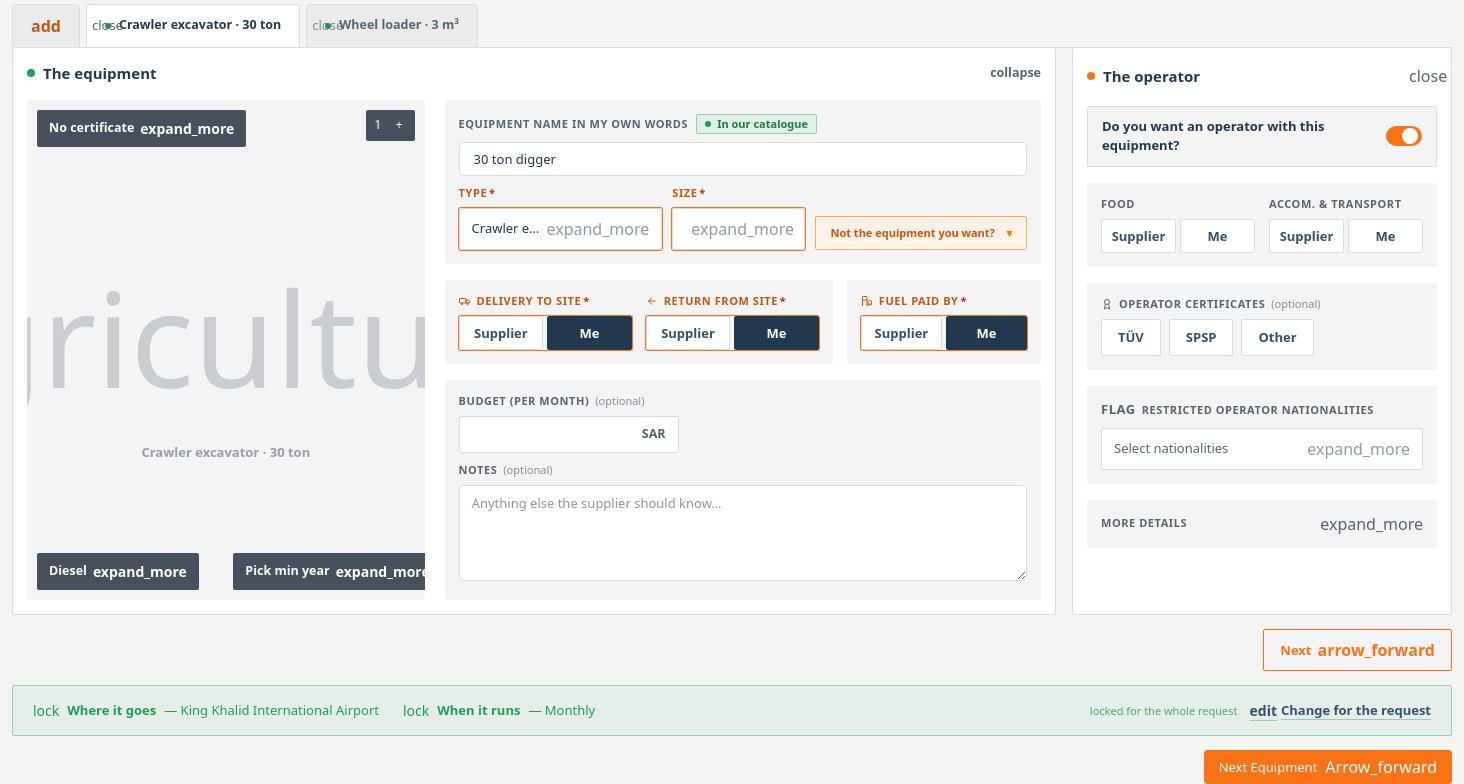
Test case: moving to the next equipment (MREQ-AC-39) › moves straight to equipment 2, with its panel open
(page scrolled)
Click the button "Next equipment arrow_forward" at (1328, 767), box x1=1204 y1=750 x2=1452 y2=783
(page scrolled)
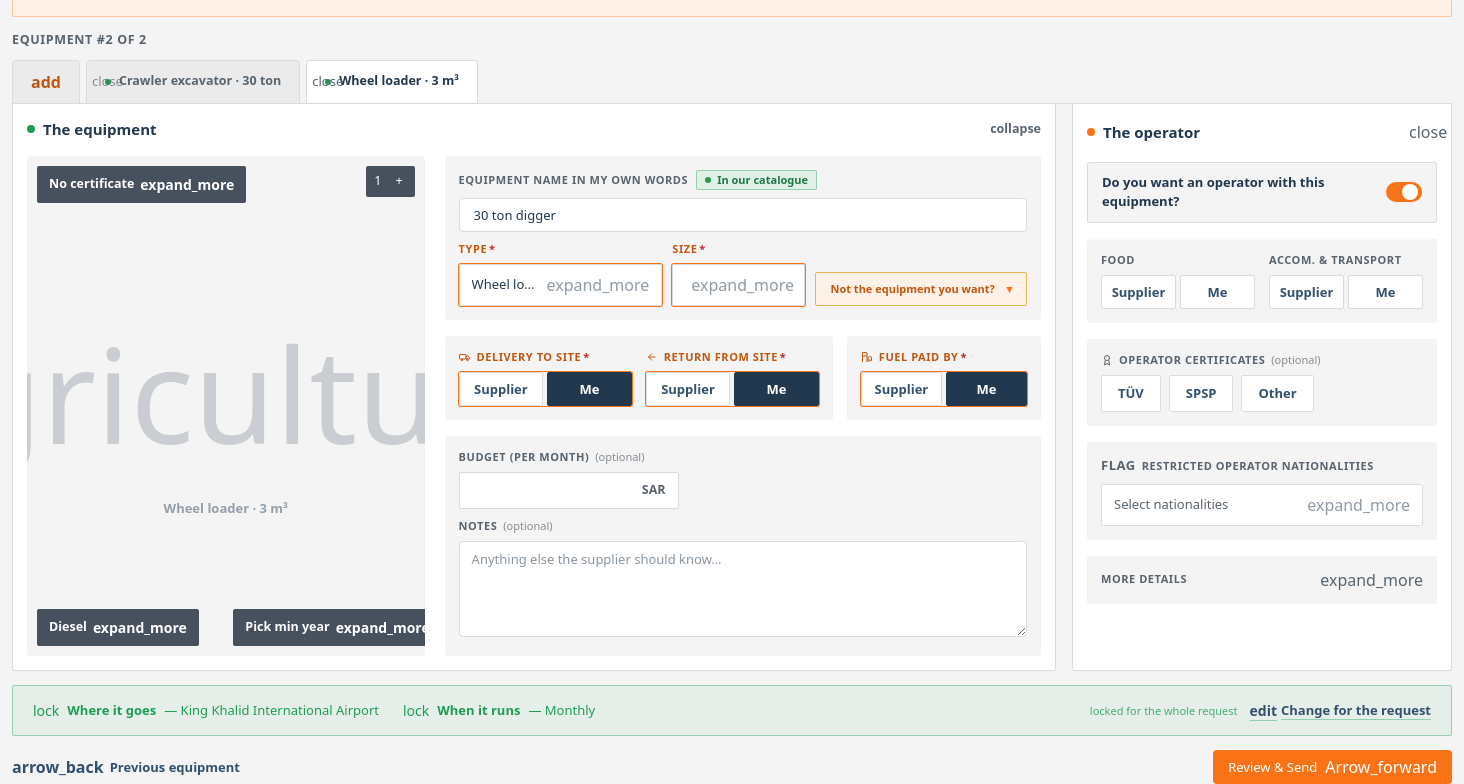
Expected: the text "Equipment #2 of 2" is shown, x1=12 y1=31 x2=147 y2=48
